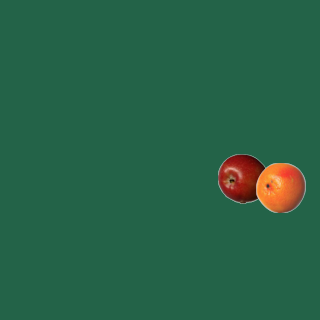Apple Braeburn: (217, 153, 267, 203)
Grapefruit Pink: (255, 162, 305, 212)
